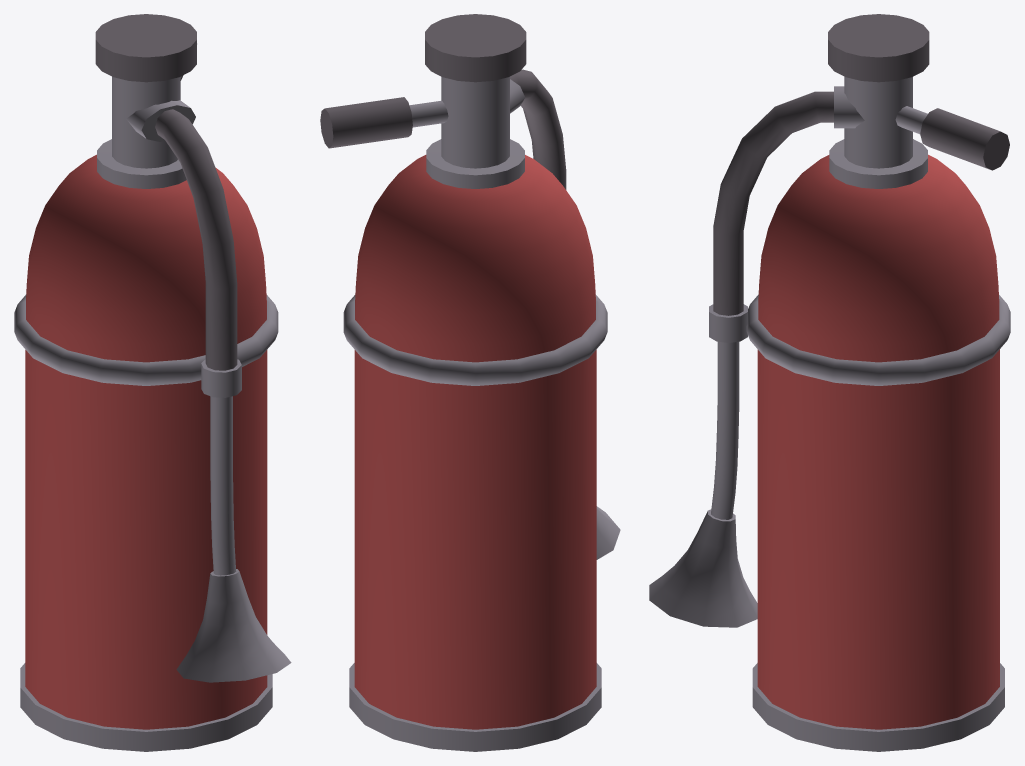
The picture shows the model from 3 angles, left to right: view 1: azimuth 30°, elevation 25°; view 2: azimuth 150°, elevation 25°; view 3: azimuth 270°, elevation 25°; orthographic projection.
Parts seen in each view (by area): view 1: colored; view 2: colored; view 3: colored.
Boxes of the visible parts, bbox=[...] form: colored: bbox=[14, 14, 291, 751]; colored: bbox=[320, 14, 620, 751]; colored: bbox=[649, 14, 1010, 751].
Size of the model in its own units: 0.5025 by 1.37 by 0.6778.
